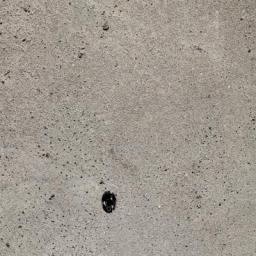FOD: (101, 190, 120, 218)
